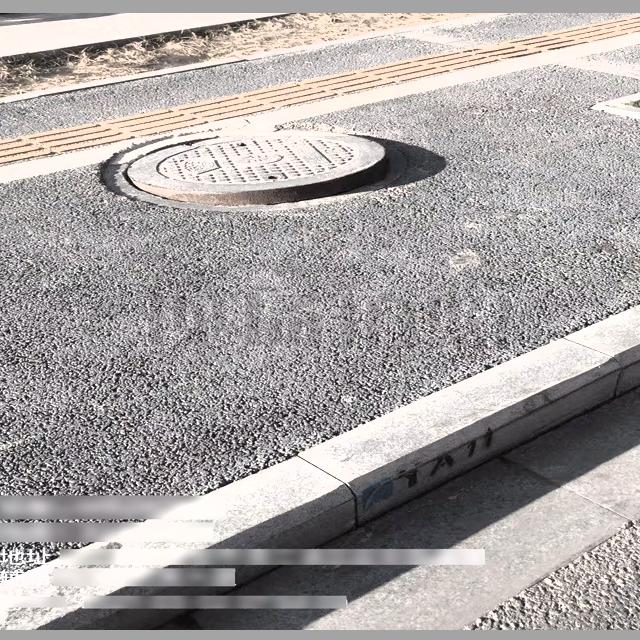uncovered: (103, 131, 385, 209)
